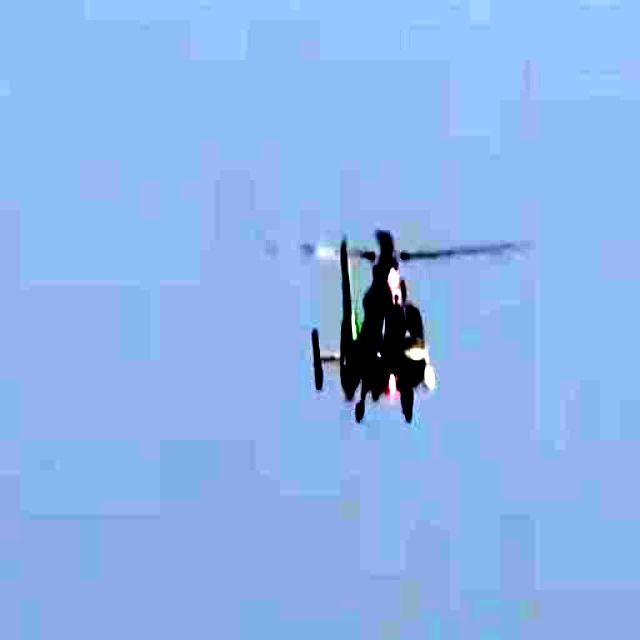drone: (298, 222, 512, 439)
